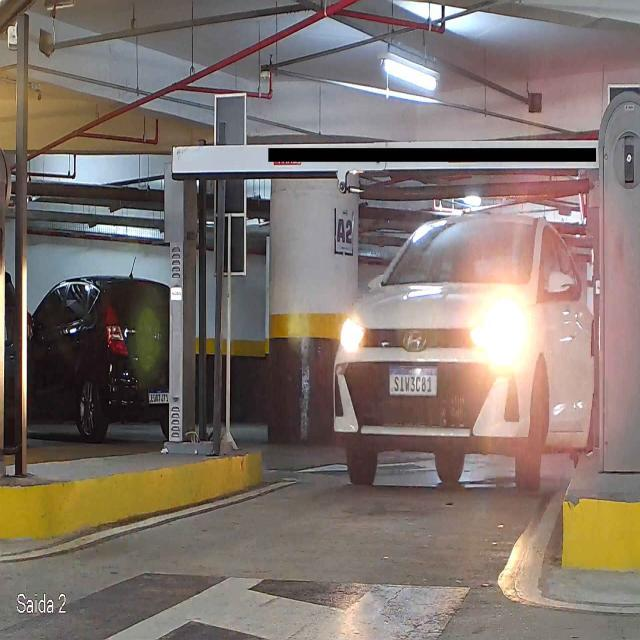mercosul_plate: (386, 363, 439, 398)
